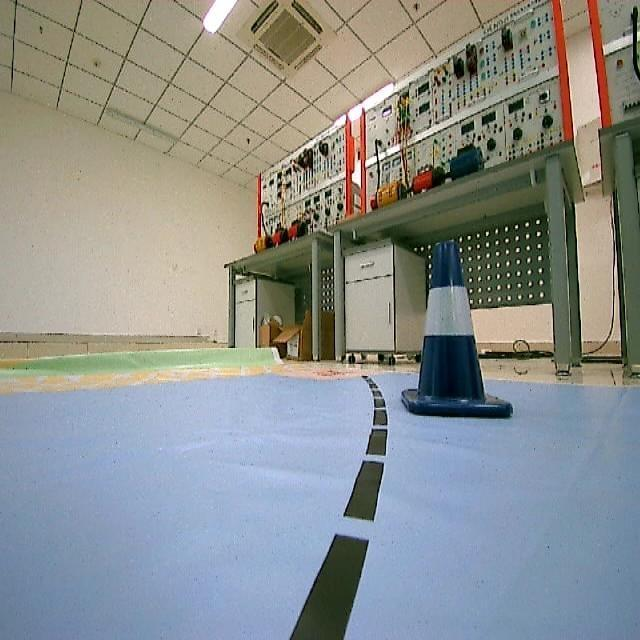obstacle: (392, 238, 520, 434)
